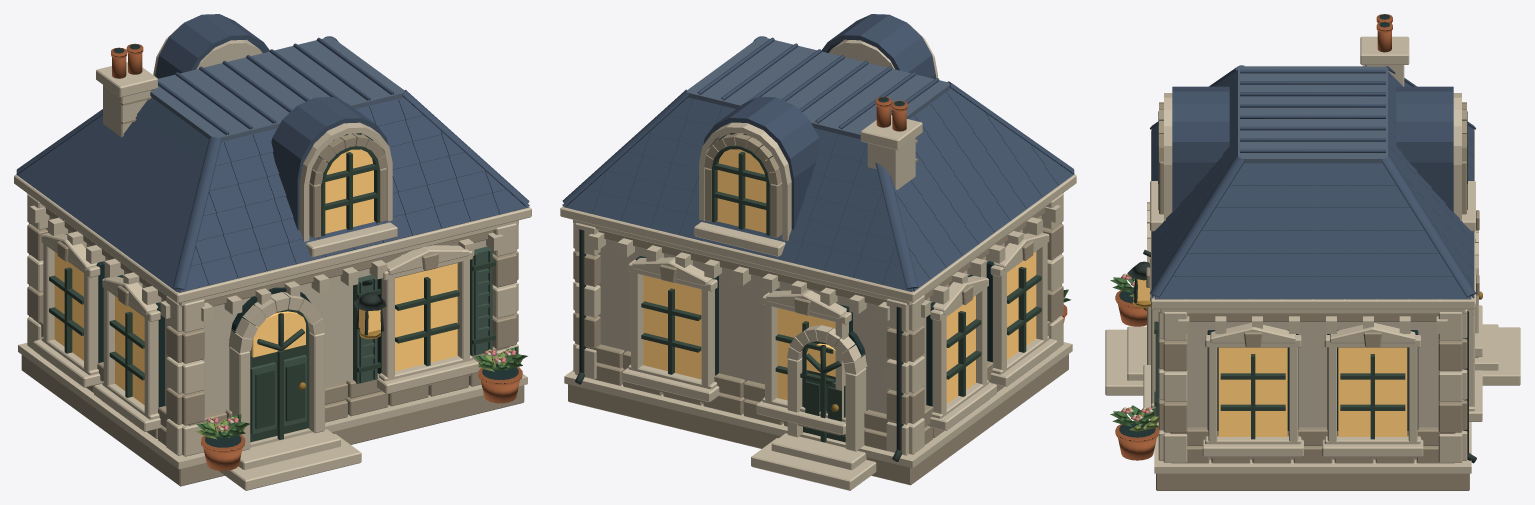
The picture shows the model from 3 angles, left to right: view 1: azimuth 30°, elevation 25°; view 2: azimuth 150°, elevation 25°; view 3: azimuth 270°, elevation 25°; orthographic projection.
Visible parts, largest first — view 1: classic_villa_1_geometry, classic_villa_1_geometry ceramic; view 2: classic_villa_1_geometry, classic_villa_1_geometry ceramic; view 3: classic_villa_1_geometry, classic_villa_1_geometry ceramic.
Part boxes in pixels (x1=…): classic_villa_1_geometry: x1=14, y1=25, x2=531, y2=490; classic_villa_1_geometry ceramic: x1=16, y1=14, x2=529, y2=292; classic_villa_1_geometry: x1=560, y1=25, x2=1076, y2=490; classic_villa_1_geometry ceramic: x1=562, y1=14, x2=1074, y2=291; classic_villa_1_geometry: x1=1105, y1=14, x2=1520, y2=490; classic_villa_1_geometry ceramic: x1=1150, y1=65, x2=1475, y2=299.
Size of the model in its own units: 0.8873 by 0.78 by 0.8766.
